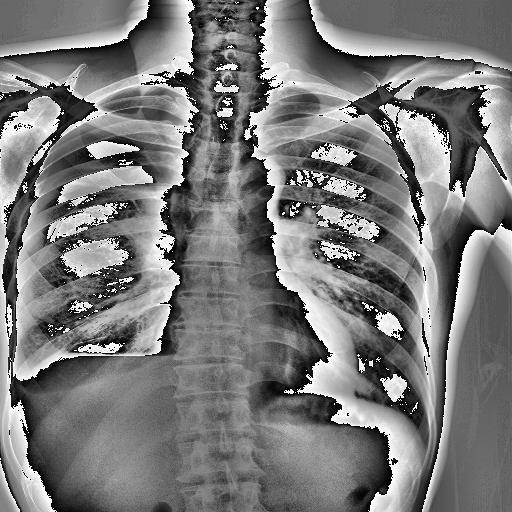0- Aortic enlargement: (226, 154, 288, 202)
10- Pleural effusion: (8, 376, 84, 412), (5, 365, 36, 396), (8, 362, 29, 398)
11- Pleural thickening: (94, 84, 166, 104), (5, 365, 36, 396), (8, 362, 29, 398), (42, 346, 76, 361)
12- Pneumothorax: (12, 84, 207, 336), (17, 82, 209, 310), (8, 88, 184, 300)
9- Other lesion: (37, 344, 92, 366)
